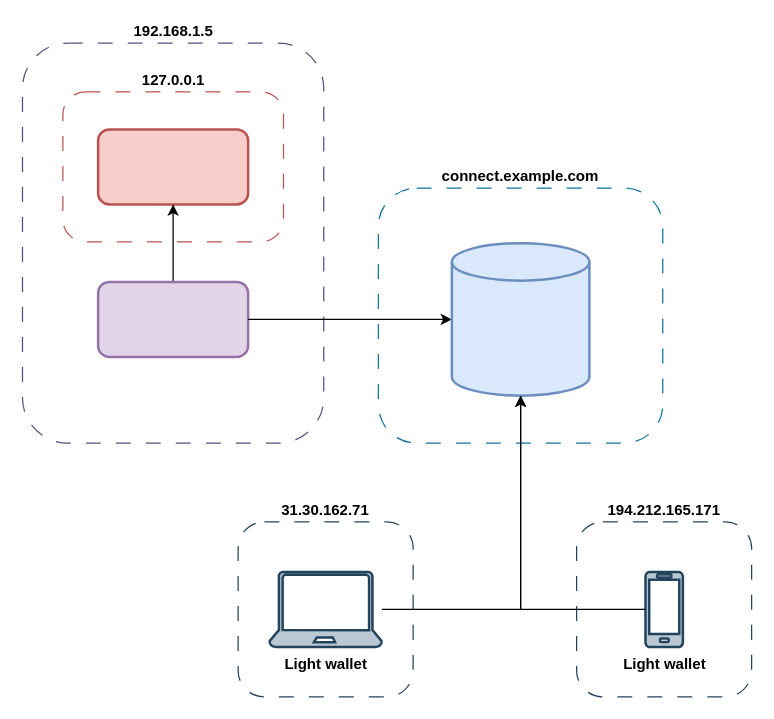
The diagram is 774 pixels wide and 719 high, and some of its shapes have lost their labels. Here are the shapes that lost their labels. From the top down, the centre of each, then its label:
[172,166]: monero-wallet-rpc
[172,319]: walletudo
[520,318]: NATS
